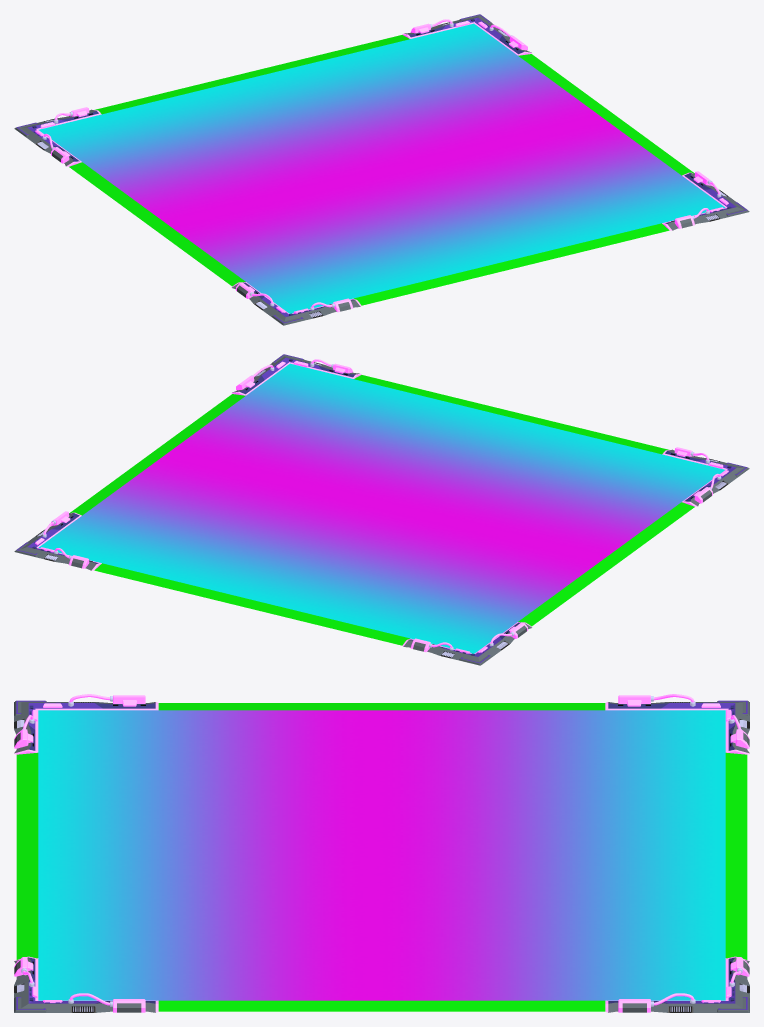
Rendered from NFT_basic_12x12.fbx.
The picture shows the model from 3 angles, top to bottom: view 1: azimuth 30°, elevation 25°; view 2: azimuth 150°, elevation 25°; view 3: azimuth 270°, elevation 25°; orthographic projection. The views are drawn at different scales.
Parts seen in each view (by area): view 1: _screen_low1, walkways, nft_frame3b_corner6 (×4); view 2: _screen_low1, walkways, nft_frame3b_corner6 (×4); view 3: _screen_low1, walkways, nft_frame3b_corner6 (×4).
Part boxes in pixels (left/top/right/bottom): _screen_low1: left=39, top=23, right=725, bottom=313; walkways: left=69, top=35, right=694, bottom=305; nft_frame3b_corner6 (×4): left=14, top=16, right=749, bottom=325; _screen_low1: left=38, top=363, right=724, bottom=653; walkways: left=69, top=375, right=694, bottom=645; nft_frame3b_corner6 (×4): left=14, top=356, right=749, bottom=665; _screen_low1: left=38, top=710, right=725, bottom=1000; walkways: left=16, top=703, right=747, bottom=1011; nft_frame3b_corner6 (×4): left=14, top=702, right=749, bottom=1012.
Size of the model in its own units: 472 by 9.59 by 472.
10 materials, 1 textured.
